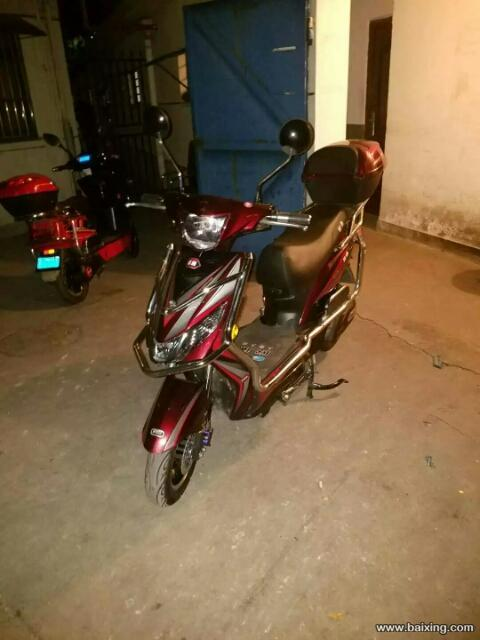电动车: (129, 100, 393, 517), (1, 124, 143, 306)
